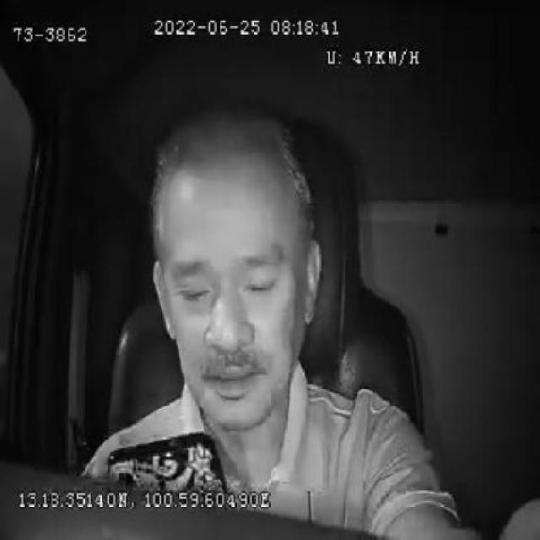phone: (105, 431, 228, 488)
